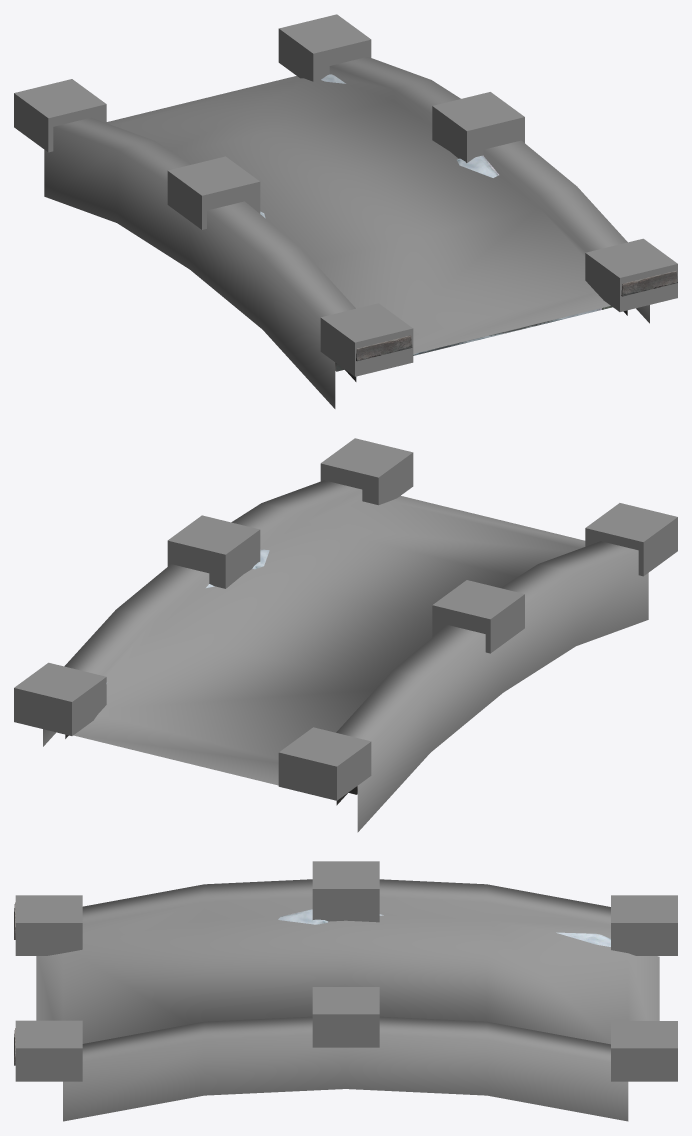
File: Scene_Object_ShaShiQiao_1.FBX
3 renders of one model, top to bottom at view 1: azimuth 30°, elevation 25°; view 2: azimuth 150°, elevation 25°; view 3: azimuth 270°, elevation 25°, orthographic. The views are drawn at different scales.
Parts seen in each view (by area): view 1: Scene_Object_XueShiQiao_1_Xzm, Scene_Object_XueShiQiao_1; view 2: Scene_Object_XueShiQiao_1_Xzm; view 3: Scene_Object_XueShiQiao_1_Xzm, Scene_Object_XueShiQiao_1.
Part boxes in pixels (left/top/right/bottom): Scene_Object_XueShiQiao_1_Xzm: left=14, top=14, right=677, bottom=408; Scene_Object_XueShiQiao_1: left=260, top=74, right=677, bottom=381; Scene_Object_XueShiQiao_1_Xzm: left=14, top=438, right=677, bottom=832; Scene_Object_XueShiQiao_1_Xzm: left=15, top=861, right=677, bottom=1121; Scene_Object_XueShiQiao_1: left=14, top=902, right=610, bottom=1065.
Size of the model in its own units: 732 by 262 by 1342.
